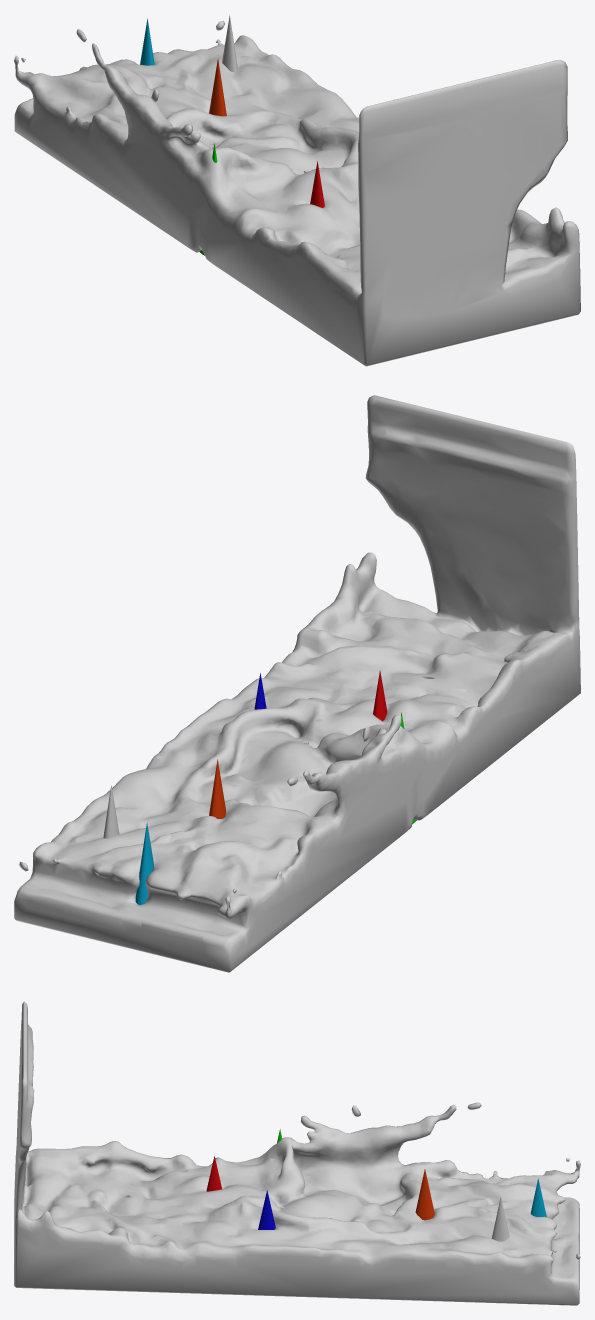
The picture shows the model from 3 angles, top to bottom: view 1: azimuth 30°, elevation 25°; view 2: azimuth 150°, elevation 25°; view 3: azimuth 270°, elevation 25°; orthographic projection. The views are drawn at different scales.
Visible parts, largest first — view 1: Liquid_Domain, 円錐.004, 円錐; view 2: Liquid_Domain, 円錐.005; view 3: Liquid_Domain, 円錐.004, 円錐, 円錐.002.
Part boxes in pixels (<box>): Liquid_Domain: <box>14,20,580,366</box>; 円錐.004: <box>209,58,226,116</box>; 円錐: <box>222,14,237,71</box>; Liquid_Domain: <box>14,395,580,972</box>; 円錐.005: <box>135,822,153,904</box>; Liquid_Domain: <box>14,1001,580,1305</box>; 円錐.004: <box>415,1169,434,1220</box>; 円錐: <box>492,1196,509,1241</box>; 円錐.002: <box>258,1190,275,1229</box>.
Bounding box in the file's own units: 129 × 158 × 362.
